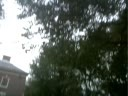window: (1, 76, 9, 87), (0, 92, 6, 96)
